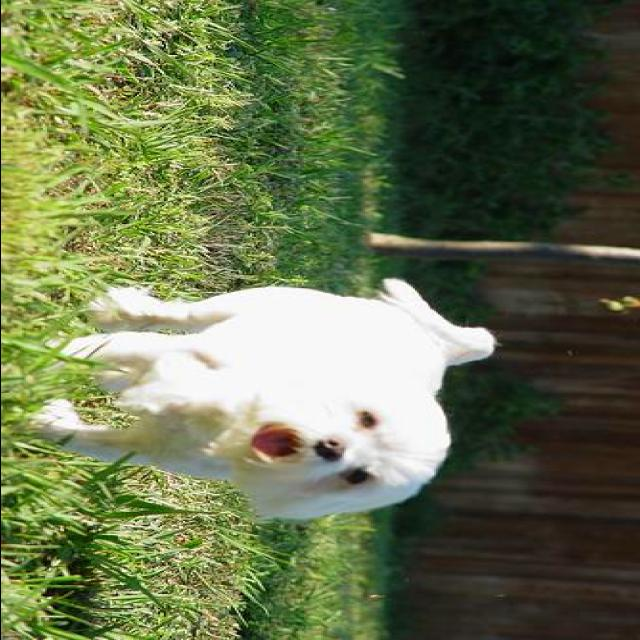maltese_dog: (24, 276, 498, 518)
